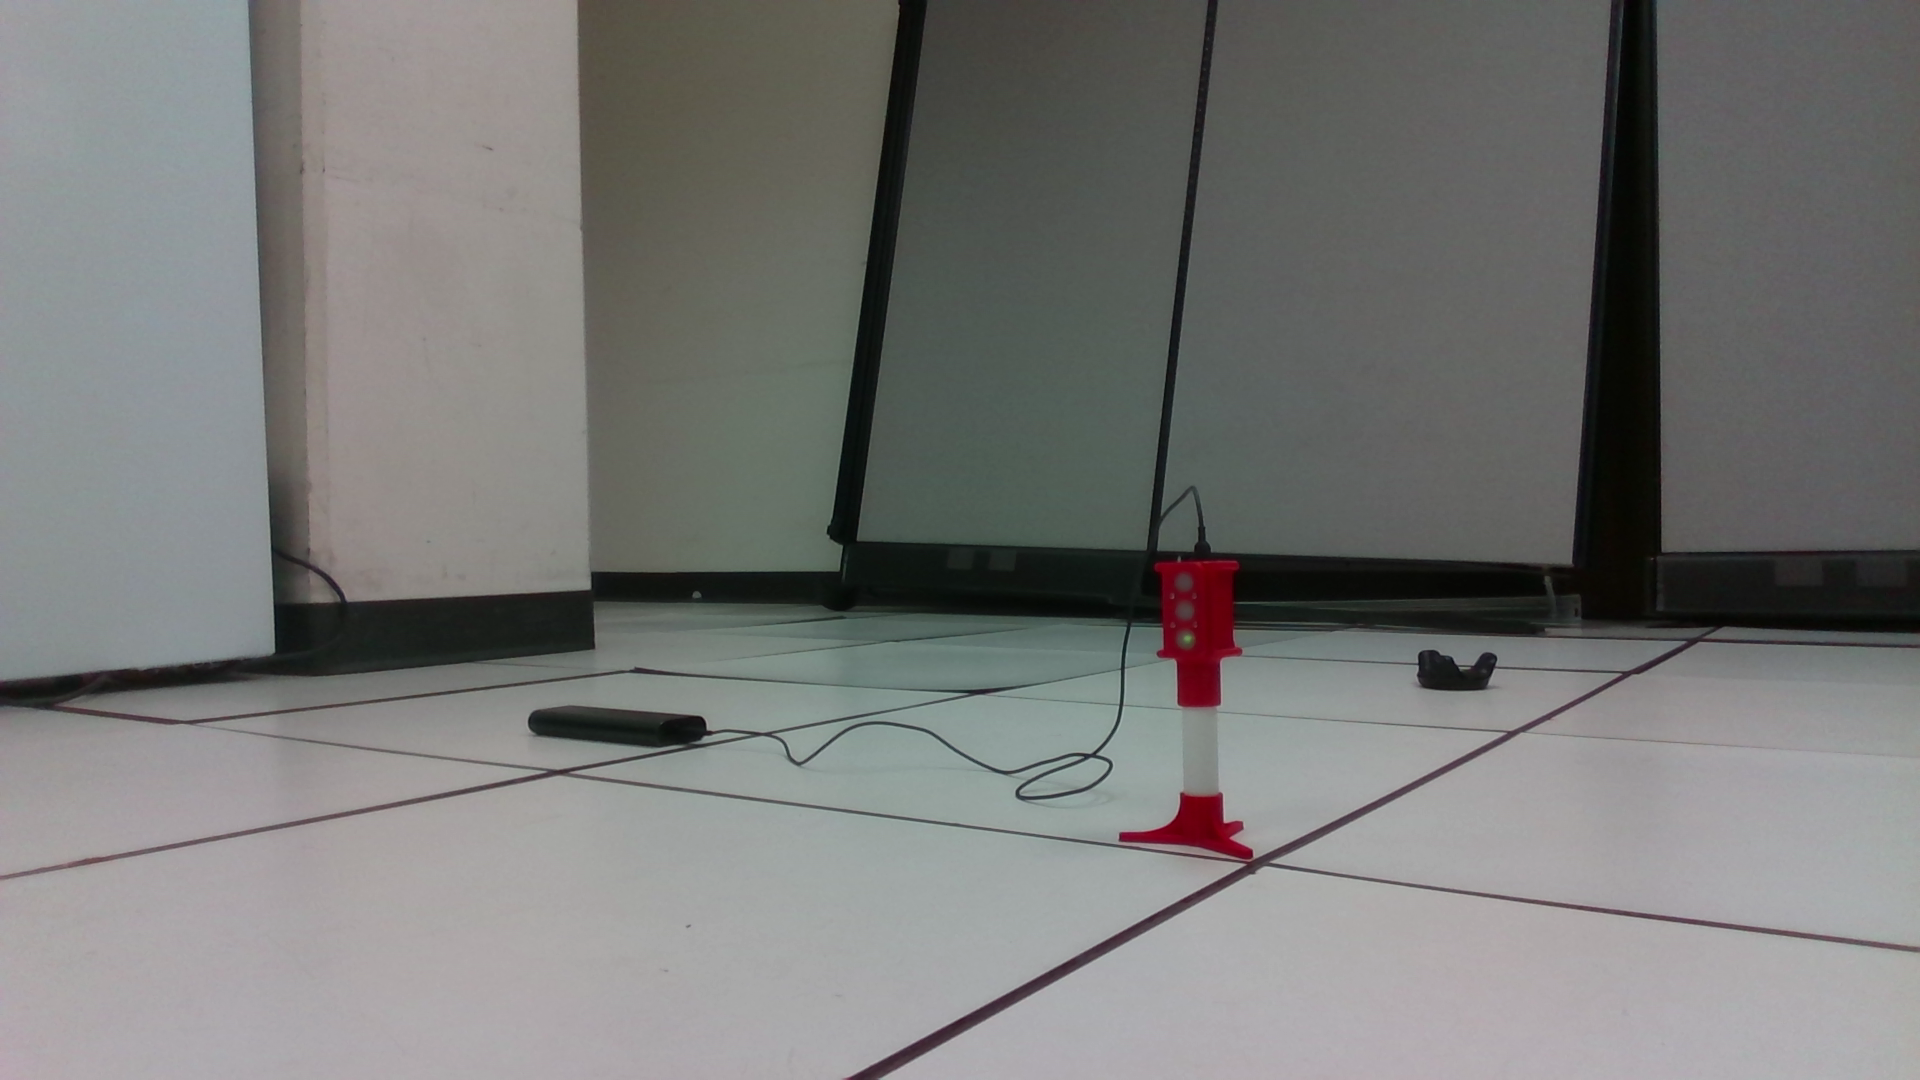stoplight: (1156, 559, 1241, 708)
